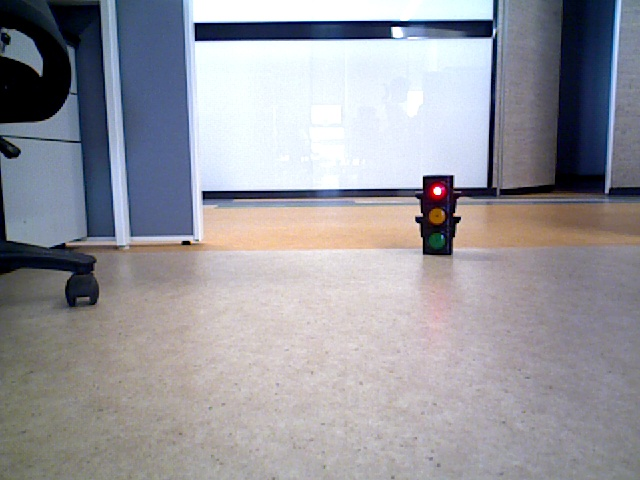red: (421, 178, 451, 253)
